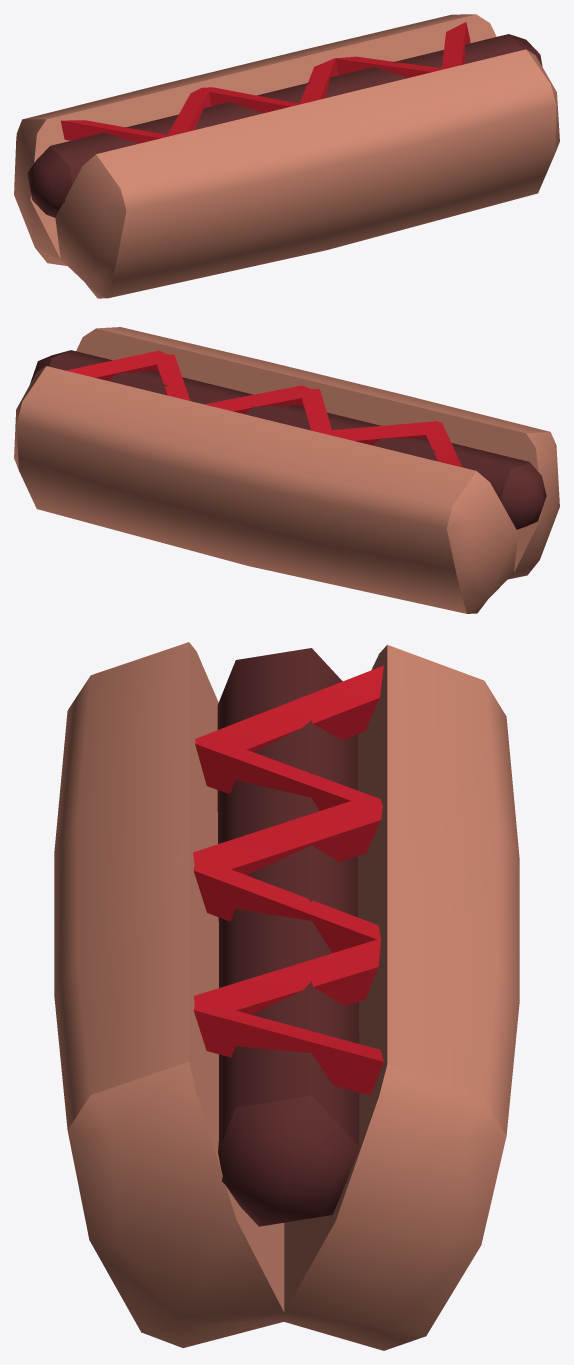
File: HotDog.fbx
3 renders of one model, top to bottom at view 1: azimuth 30°, elevation 25°; view 2: azimuth 150°, elevation 25°; view 3: azimuth 270°, elevation 25°, orthographic. The views are drawn at different scales.
Visible parts, largest first — view 1: HotDog; view 2: HotDog; view 3: HotDog.
Boxes of the visible parts, x1,y1,x2,y2 form: HotDog: [14, 14, 559, 298]; HotDog: [14, 327, 559, 613]; HotDog: [54, 642, 519, 1350].
Bounding box in the file's own units: 199 × 54.87 × 78.87.
